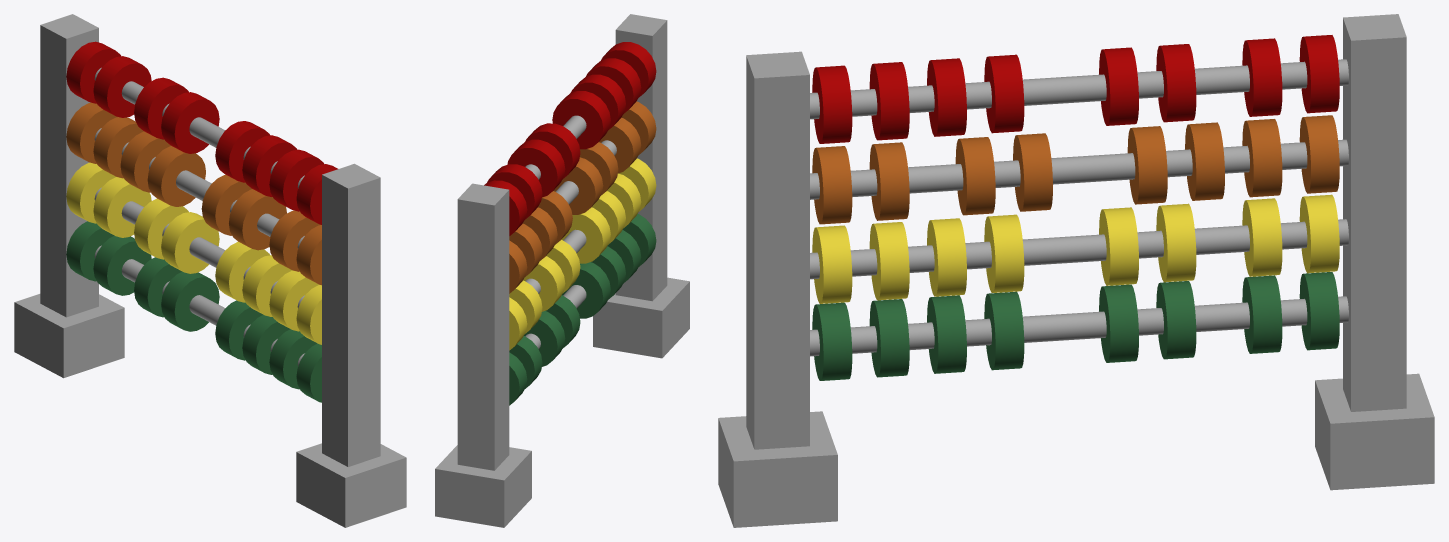
Rendered from Abacus.fbx.
3 views of the same model, side by side, from view 1: azimuth 30°, elevation 25°; view 2: azimuth 150°, elevation 25°; view 3: azimuth 270°, elevation 25° (orthographic). The views are drawn at different scales.
Parts seen in each view (by area): view 1: pCylinder32; view 2: pCylinder32; view 3: pCylinder32.
Part boxes in pixels (x1,y1,x2,y2): pCylinder32: (14,14,406,527); pCylinder32: (435,14,689,527); pCylinder32: (718,14,1434,527).
Bounding box in the file's own units: 0.3033 × 0.7055 × 1.05.
